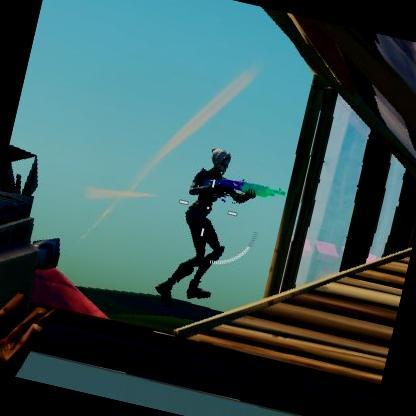person: (170, 147, 262, 324)
